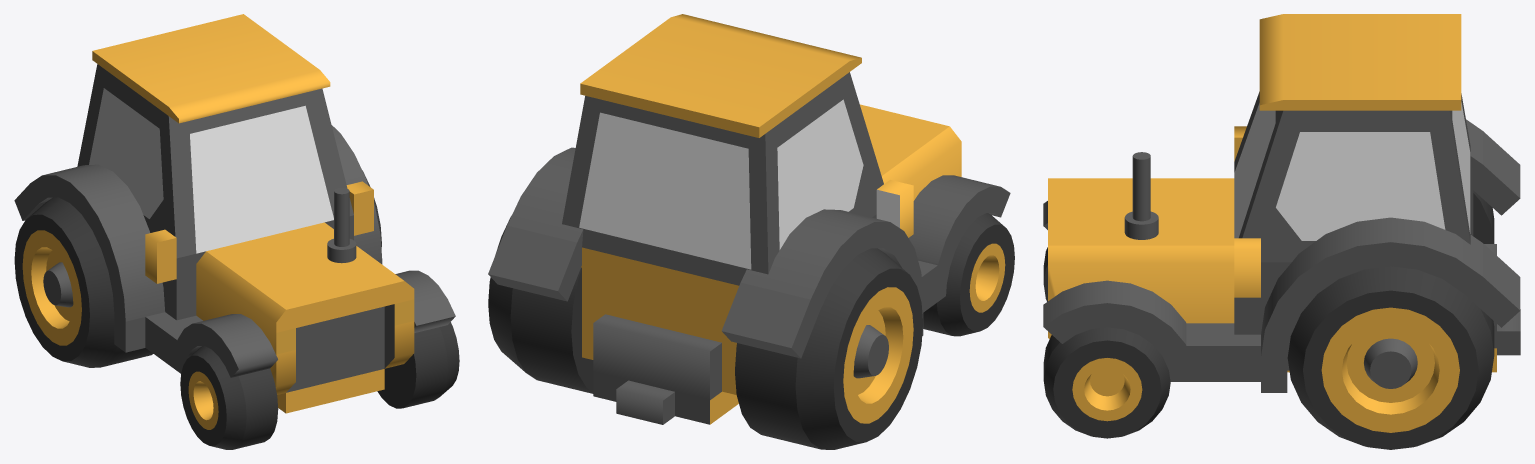
File: tractorShovel.obj
The picture shows the model from 3 angles, left to right: view 1: azimuth 30°, elevation 25°; view 2: azimuth 150°, elevation 25°; view 3: azimuth 270°, elevation 25°; orthographic projection. The views are drawn at different scales.
Parts seen in each view (by area): view 1: body, skirts, wheel_backRight, wheel_frontRight, wheel_frontLeft; view 2: body, skirts, wheel_backRight, wheel_backLeft, wheel_frontRight; view 3: body, skirts, wheel_backLeft, wheel_frontLeft, wheel_backRight.
Boxes of the visible parts, x1=… form: body: x1=77, y1=14, x2=414, y2=413; skirts: x1=14, y1=125, x2=455, y2=377; wheel_backRight: x1=14, y1=197, x2=153, y2=367; wheel_frontRight: x1=180, y1=346, x2=278, y2=449; wheel_frontLeft: x1=377, y1=322, x2=459, y2=408; body: x1=562, y1=14, x2=961, y2=424; skirts: x1=488, y1=147, x2=1010, y2=358; wheel_backRight: x1=735, y1=248, x2=922, y2=449; wheel_backLeft: x1=488, y1=215, x2=593, y2=393; wheel_frontRight: x1=923, y1=213, x2=1014, y2=336; body: x1=1048, y1=14, x2=1520, y2=372; skirts: x1=1043, y1=119, x2=1520, y2=392; wheel_backLeft: x1=1287, y1=266, x2=1494, y2=449; wheel_frontLeft: x1=1043, y1=327, x2=1170, y2=438; wheel_backRight: x1=1473, y1=190, x2=1494, y2=243.
Size of the model in its own units: 1.66 by 1.51 by 2.02.
